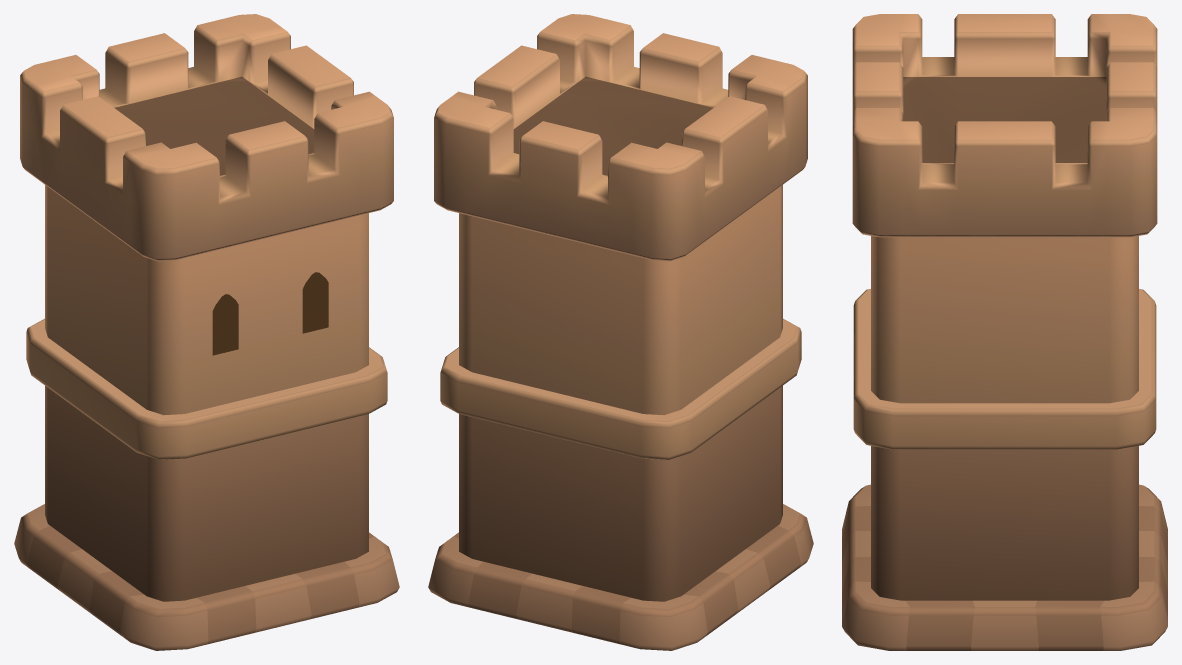
Rendered from Checkpoint_1.fbx.
3 views of the same model, side by side, from view 1: azimuth 30°, elevation 25°; view 2: azimuth 150°, elevation 25°; view 3: azimuth 270°, elevation 25° (orthographic). The views are drawn at different scales.
Parts seen in each view (by area): view 1: Checkpoint_1; view 2: Checkpoint_1; view 3: Checkpoint_1.
Part boxes in pixels (x1,y1,x2,y2): Checkpoint_1: [14, 14, 399, 650]; Checkpoint_1: [428, 14, 813, 650]; Checkpoint_1: [842, 14, 1167, 650].
Size of the model in its own units: 190 by 326 by 190.
